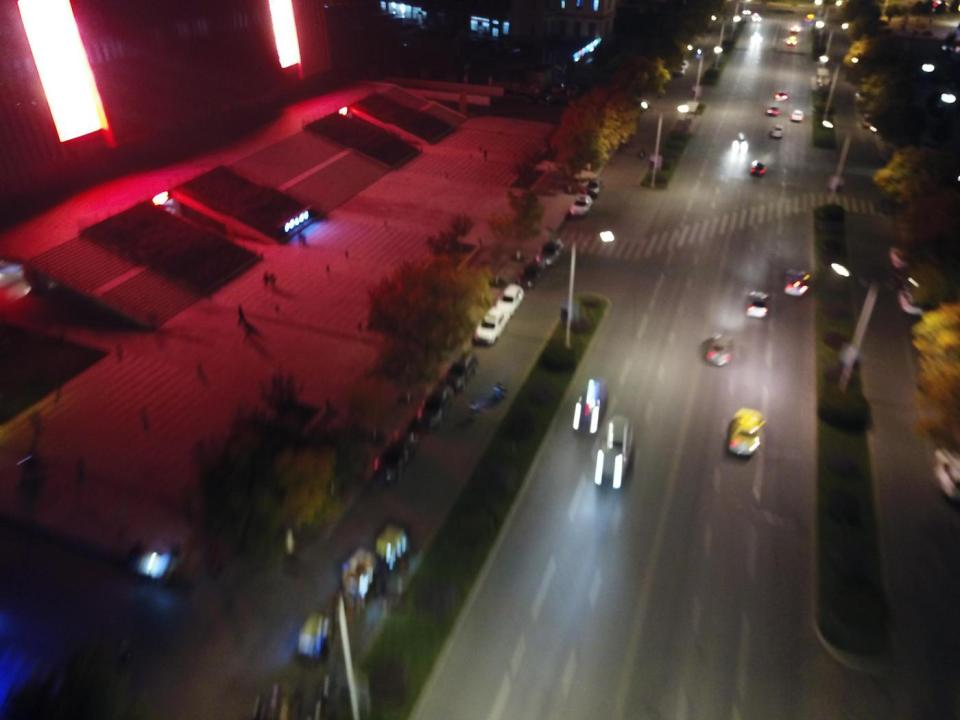car: (890, 244, 950, 315), (593, 415, 634, 489), (371, 426, 419, 484), (572, 378, 607, 435), (341, 548, 376, 603), (416, 382, 456, 429), (728, 408, 765, 458), (374, 522, 413, 564), (296, 612, 328, 660), (935, 447, 960, 503), (444, 350, 478, 391), (474, 307, 510, 344), (856, 88, 886, 132), (495, 283, 525, 316), (706, 333, 732, 366), (536, 237, 564, 267), (516, 261, 542, 288), (786, 268, 810, 297), (746, 292, 768, 318), (570, 193, 592, 217), (586, 178, 604, 198), (733, 132, 749, 153), (942, 38, 960, 54), (751, 160, 765, 177), (533, 91, 551, 102), (525, 88, 538, 103), (790, 108, 804, 121), (566, 84, 581, 96), (802, 14, 815, 27), (550, 83, 564, 93), (673, 66, 685, 77), (774, 91, 788, 100), (678, 59, 689, 69), (766, 106, 778, 115), (786, 36, 797, 44), (742, 6, 751, 15), (752, 13, 761, 22), (791, 26, 800, 33)
van: (771, 125, 784, 138)
